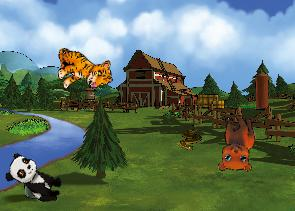bear: (210, 112, 259, 175)
panda: (1, 150, 68, 207)
tiger: (53, 41, 113, 94)
